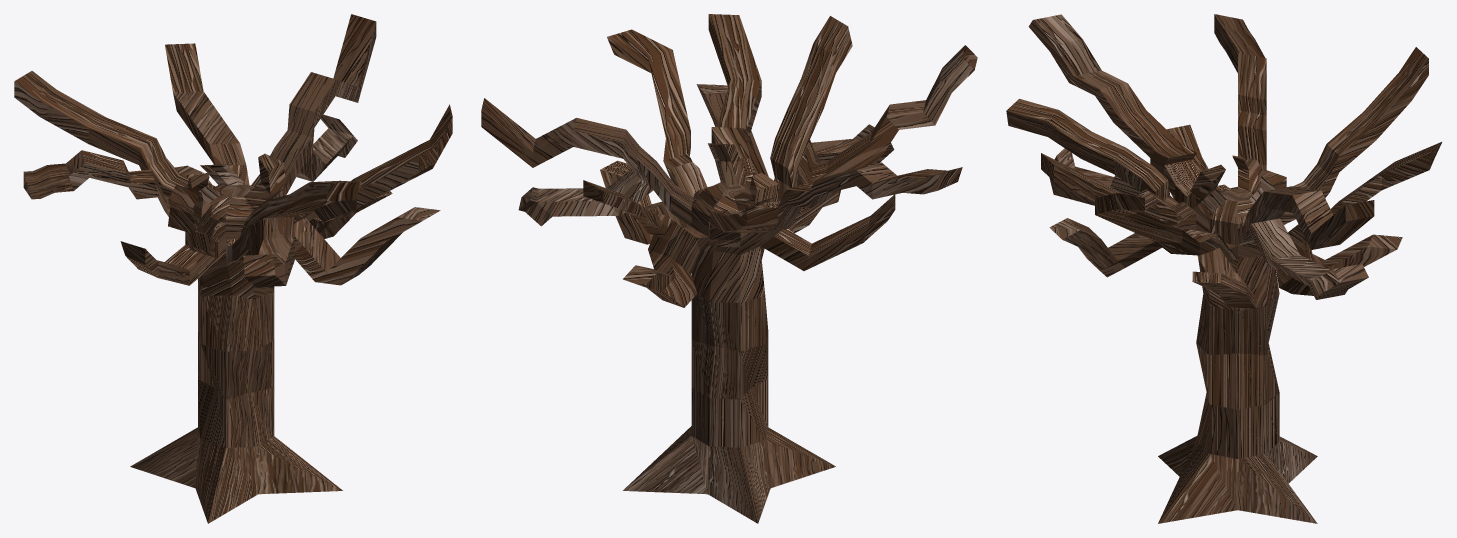
File: oakDead.fbx
3 renders of one model, left to right at view 1: azimuth 30°, elevation 25°; view 2: azimuth 150°, elevation 25°; view 3: azimuth 270°, elevation 25°, orthographic. The views are drawn at different scales.
Visible parts, largest first — view 1: OakDead; view 2: OakDead; view 3: OakDead.
Boxes of the visible parts, <box> form: OakDead: <box>14,14,452,523</box>; OakDead: <box>481,14,977,523</box>; OakDead: <box>1006,14,1441,523</box>.
Size of the model in its own units: 332 by 301 by 296.
Materials: 1 (1 with a texture image).
